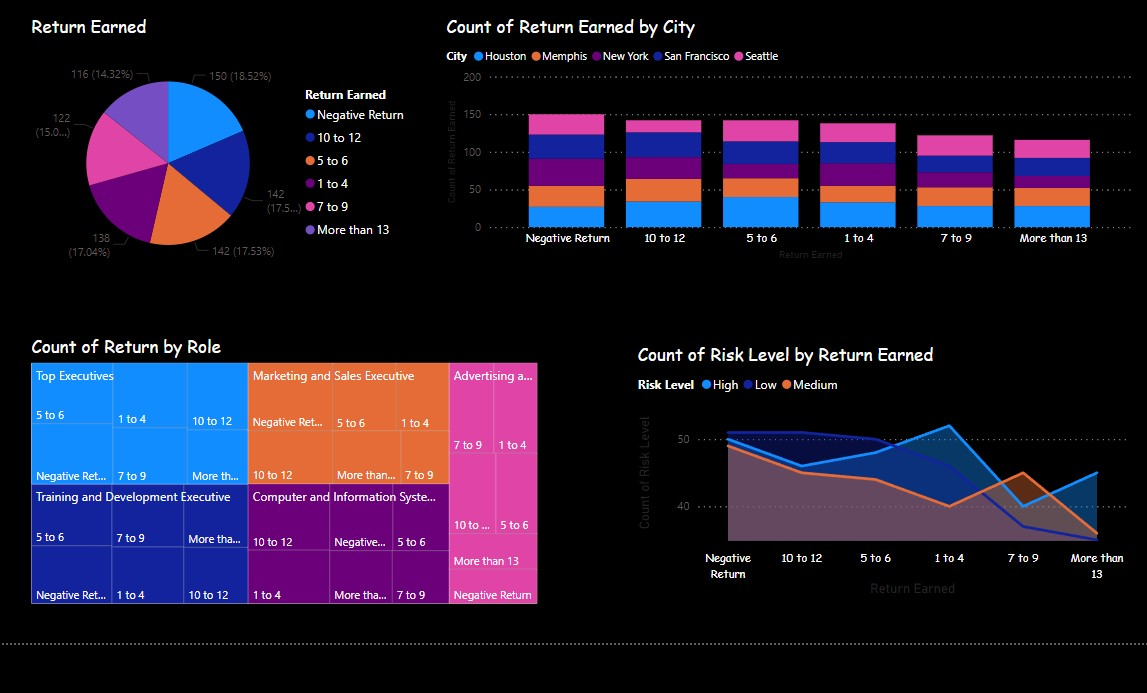

This screenshot's page, from the dashboard's own definition file:
{"tool":"powerbi","page":{"name":"Return earned","canvas":[1280,720],"ordinal":2},"visuals":[{"type":"pieChart","title":"Return Earned ","fields":{"Category":["Sheet1.Return Earned"],"Y":["CountNonNull(Sheet1.Return Earned)"]},"box":[38.4,30.2,428.1,300.5],"z":0},{"type":"lineStackedColumnComboChart","title":"Count of Return Earned by City","fields":{"Category":["Sheet1.Return Earned"],"Series":["Sheet1.City"],"Y":["CountNonNull(Sheet1.Return Earned)"]},"box":[494,30.2,761.6,274.4],"z":1000},{"type":"treemap","title":"Count of Return by Role ","fields":{"Group":["Sheet1.Role"],"Values":["CountNonNull(Sheet1.Return Earned)"],"Details":["Sheet1.Return Earned"]},"box":[38.4,381.5,565.4,300.5],"z":2000},{"type":"areaChart","title":"Count of Risk Level by Return Earned ","fields":{"Category":["Sheet1.Return Earned"],"Y":["CountNonNull(Sheet1.Risk Level)"],"Series":["Sheet1.Risk Level"]},"box":[703.9,389.7,551.6,284],"z":3000}]}

Visuals, with their boxes on the page's 1280x720 design canvas (x1, y1, x2, y2). These are canvas units, not pixel positions in the 1147x693 screenshot, which may show the page scaled, cropped or inside an application window:
"Return Earned " pieChart: [38,30,466,331]
"Count of Return Earned by City" lineStackedColumnComboChart: [494,30,1256,305]
"Count of Return by Role " treemap: [38,382,604,682]
"Count of Risk Level by Return Earned " areaChart: [704,390,1256,674]
